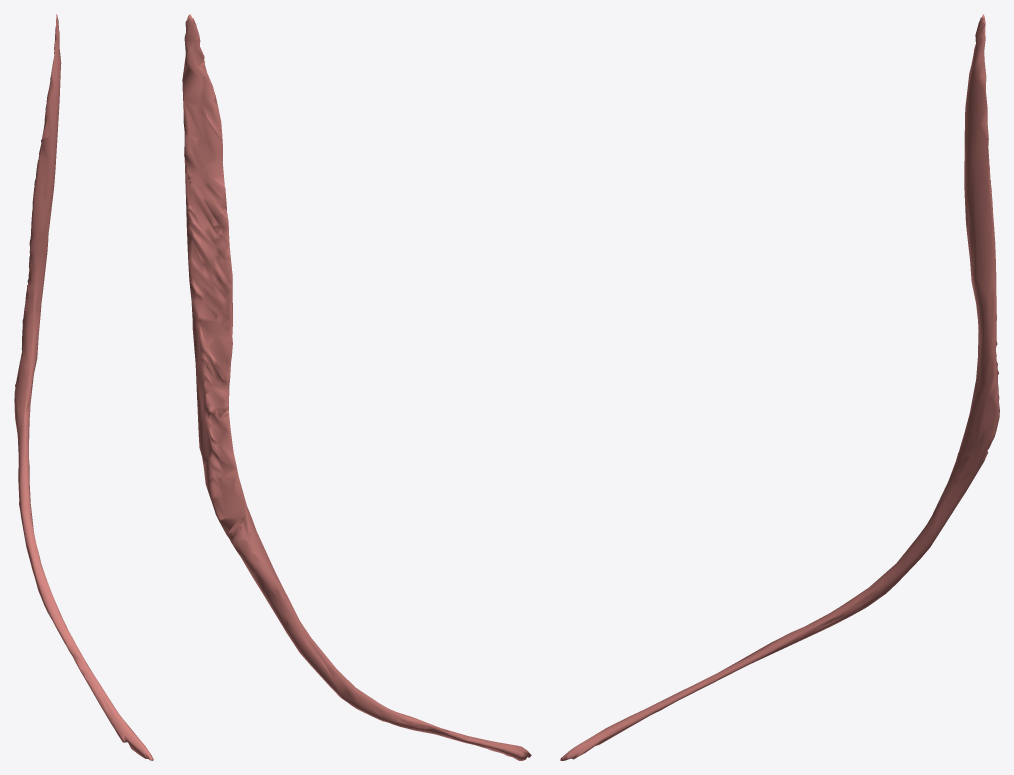
3 views of the same model, side by side, from view 1: azimuth 30°, elevation 25°; view 2: azimuth 150°, elevation 25°; view 3: azimuth 270°, elevation 25° (orthographic). The views are drawn at different scales.
Parts seen in each view (by area): view 1: ZA_f41079ad058d7924; view 2: ZA_f41079ad058d7924; view 3: ZA_f41079ad058d7924.
Boxes of the visible parts, box(x1,y1,x2,y2) form: ZA_f41079ad058d7924: box(14, 14, 153, 760); ZA_f41079ad058d7924: box(182, 14, 531, 760); ZA_f41079ad058d7924: box(560, 14, 999, 760).
Bounding box in the file's own units: 0.0427 × 0.2805 × 0.1417.
